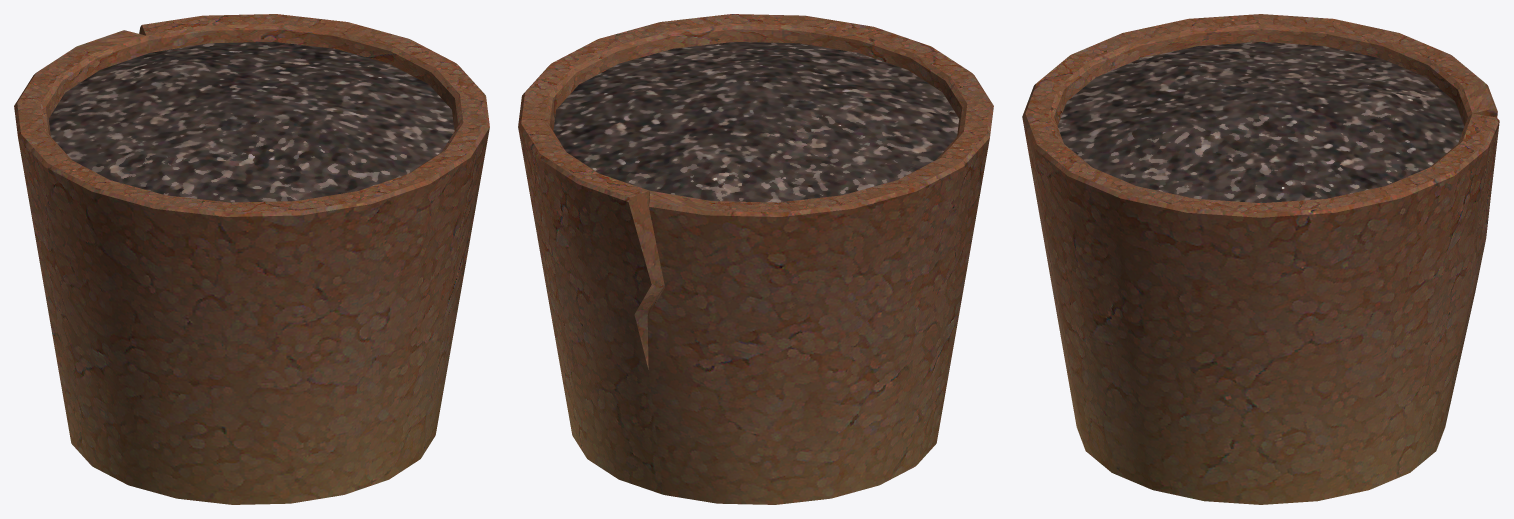
File: FlowerPot.fbx
The picture shows the model from 3 angles, left to right: view 1: azimuth 30°, elevation 25°; view 2: azimuth 150°, elevation 25°; view 3: azimuth 270°, elevation 25°; orthographic projection.
Parts seen in each view (by area): view 1: pCylinder1; view 2: pCylinder1; view 3: pCylinder1.
Part boxes in pixels (box(x1,y1,x2,y2)): pCylinder1: box(14, 14, 489, 504); pCylinder1: box(518, 14, 993, 504); pCylinder1: box(1022, 14, 1499, 504).
Size of the model in its own units: 29.86 by 22.39 by 29.86.
